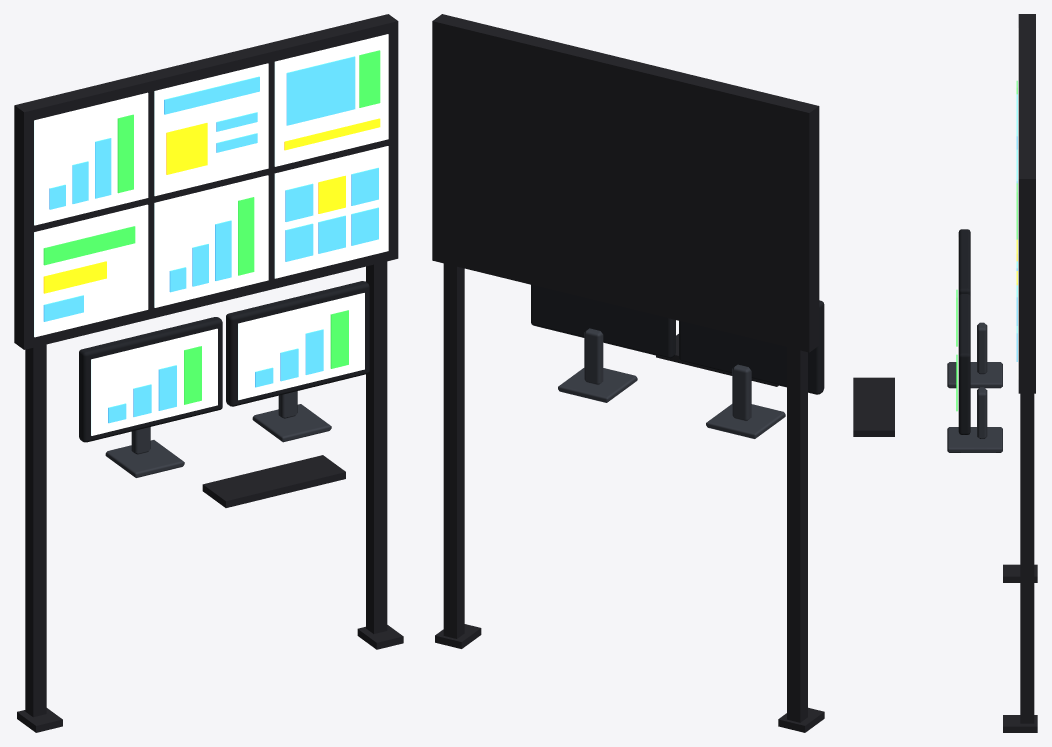
Rendered from station_intake_ausstattung_1_3.glb.
The picture shows the model from 3 angles, left to right: view 1: azimuth 30°, elevation 25°; view 2: azimuth 150°, elevation 25°; view 3: azimuth 270°, elevation 25°; orthographic projection. The views are drawn at different scales.
Parts seen in each view (by area): view 1: station_intake_ausstattung_1_3; view 2: station_intake_ausstattung_1_3; view 3: station_intake_ausstattung_1_3.
Part boxes in pixels (<box>): station_intake_ausstattung_1_3: <box>14,14,403,732</box>; station_intake_ausstattung_1_3: <box>432,14,824,732</box>; station_intake_ausstattung_1_3: <box>853,14,1037,732</box>.
Bounding box in the file's own units: 1.12 × 1.76 × 0.53.
